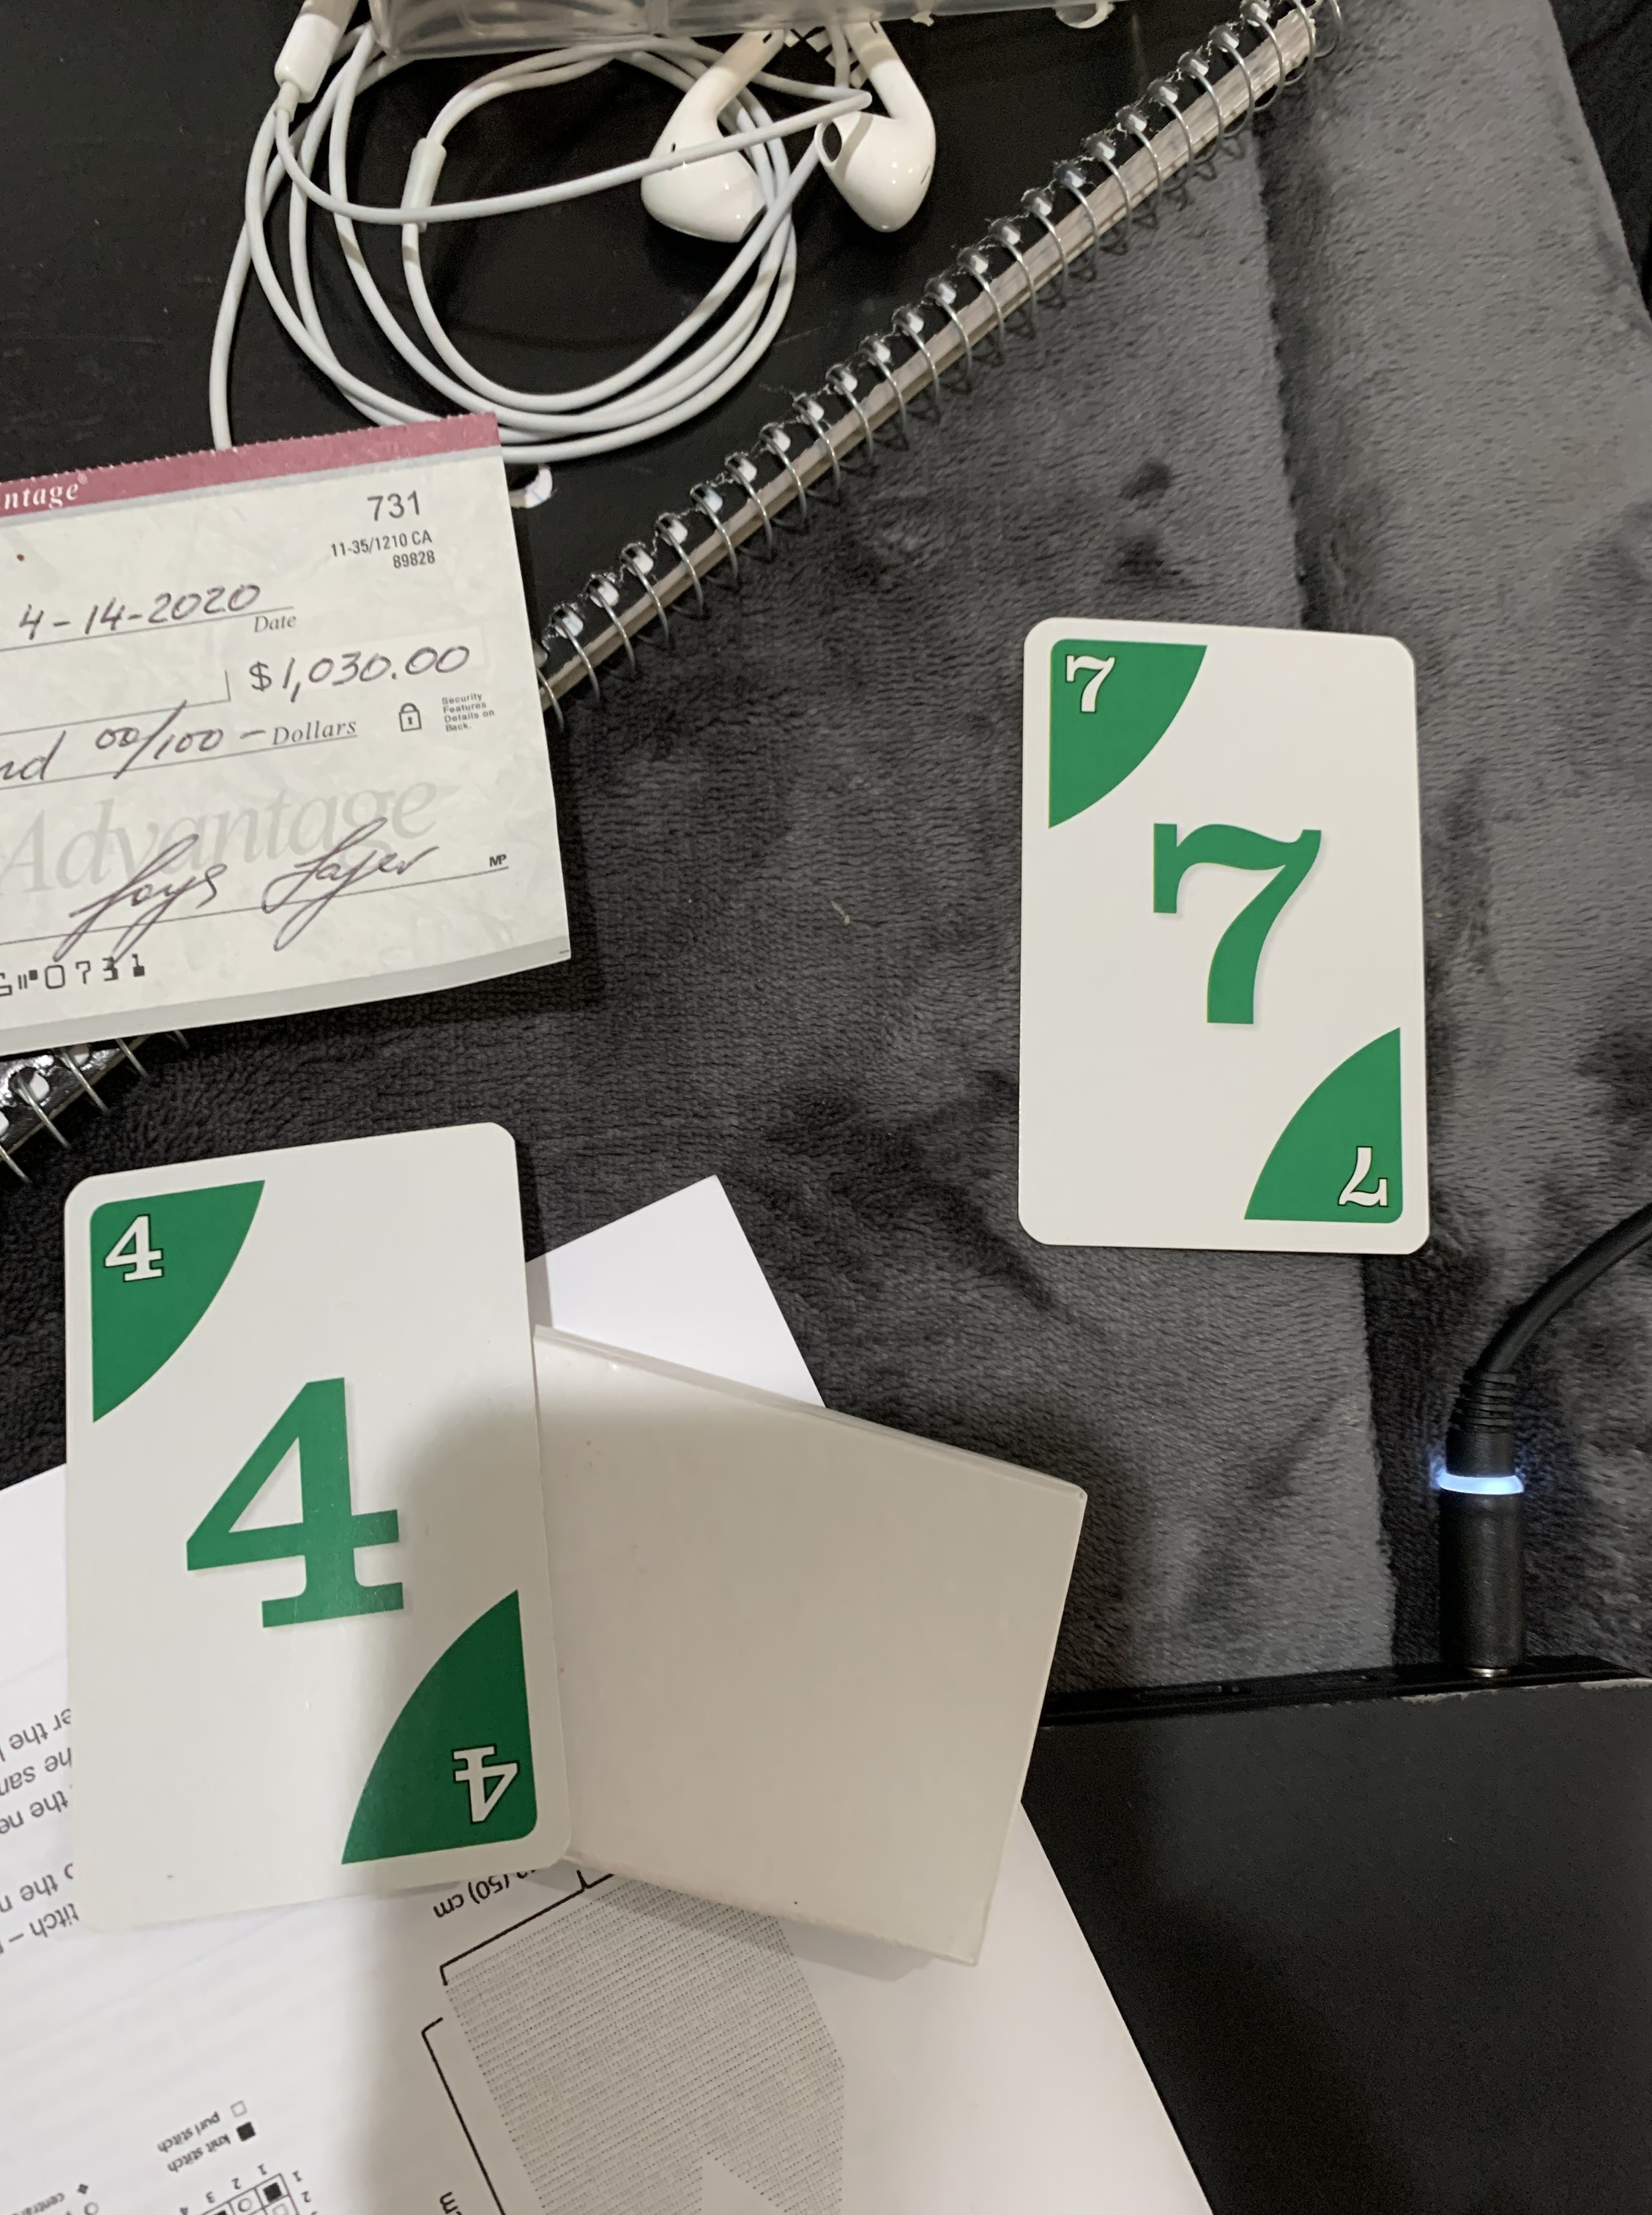four: (52, 1099, 578, 1936)
seven: (984, 599, 1447, 1276)
